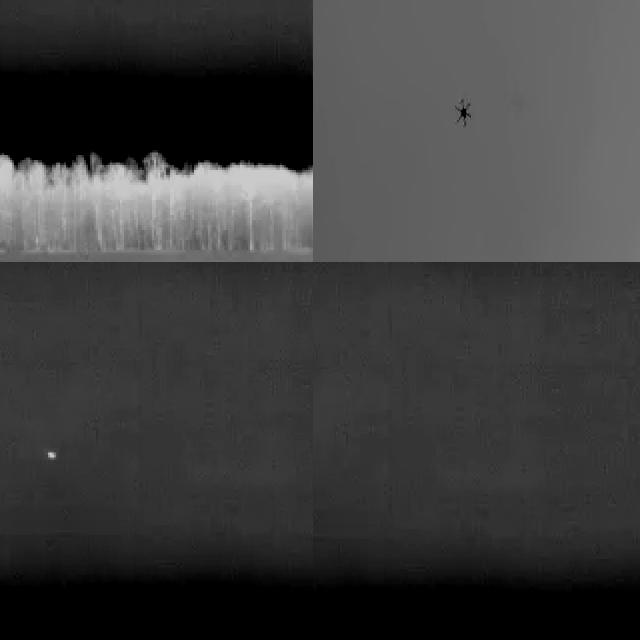1: (34, 444, 62, 474)
drone: (449, 94, 476, 130)
